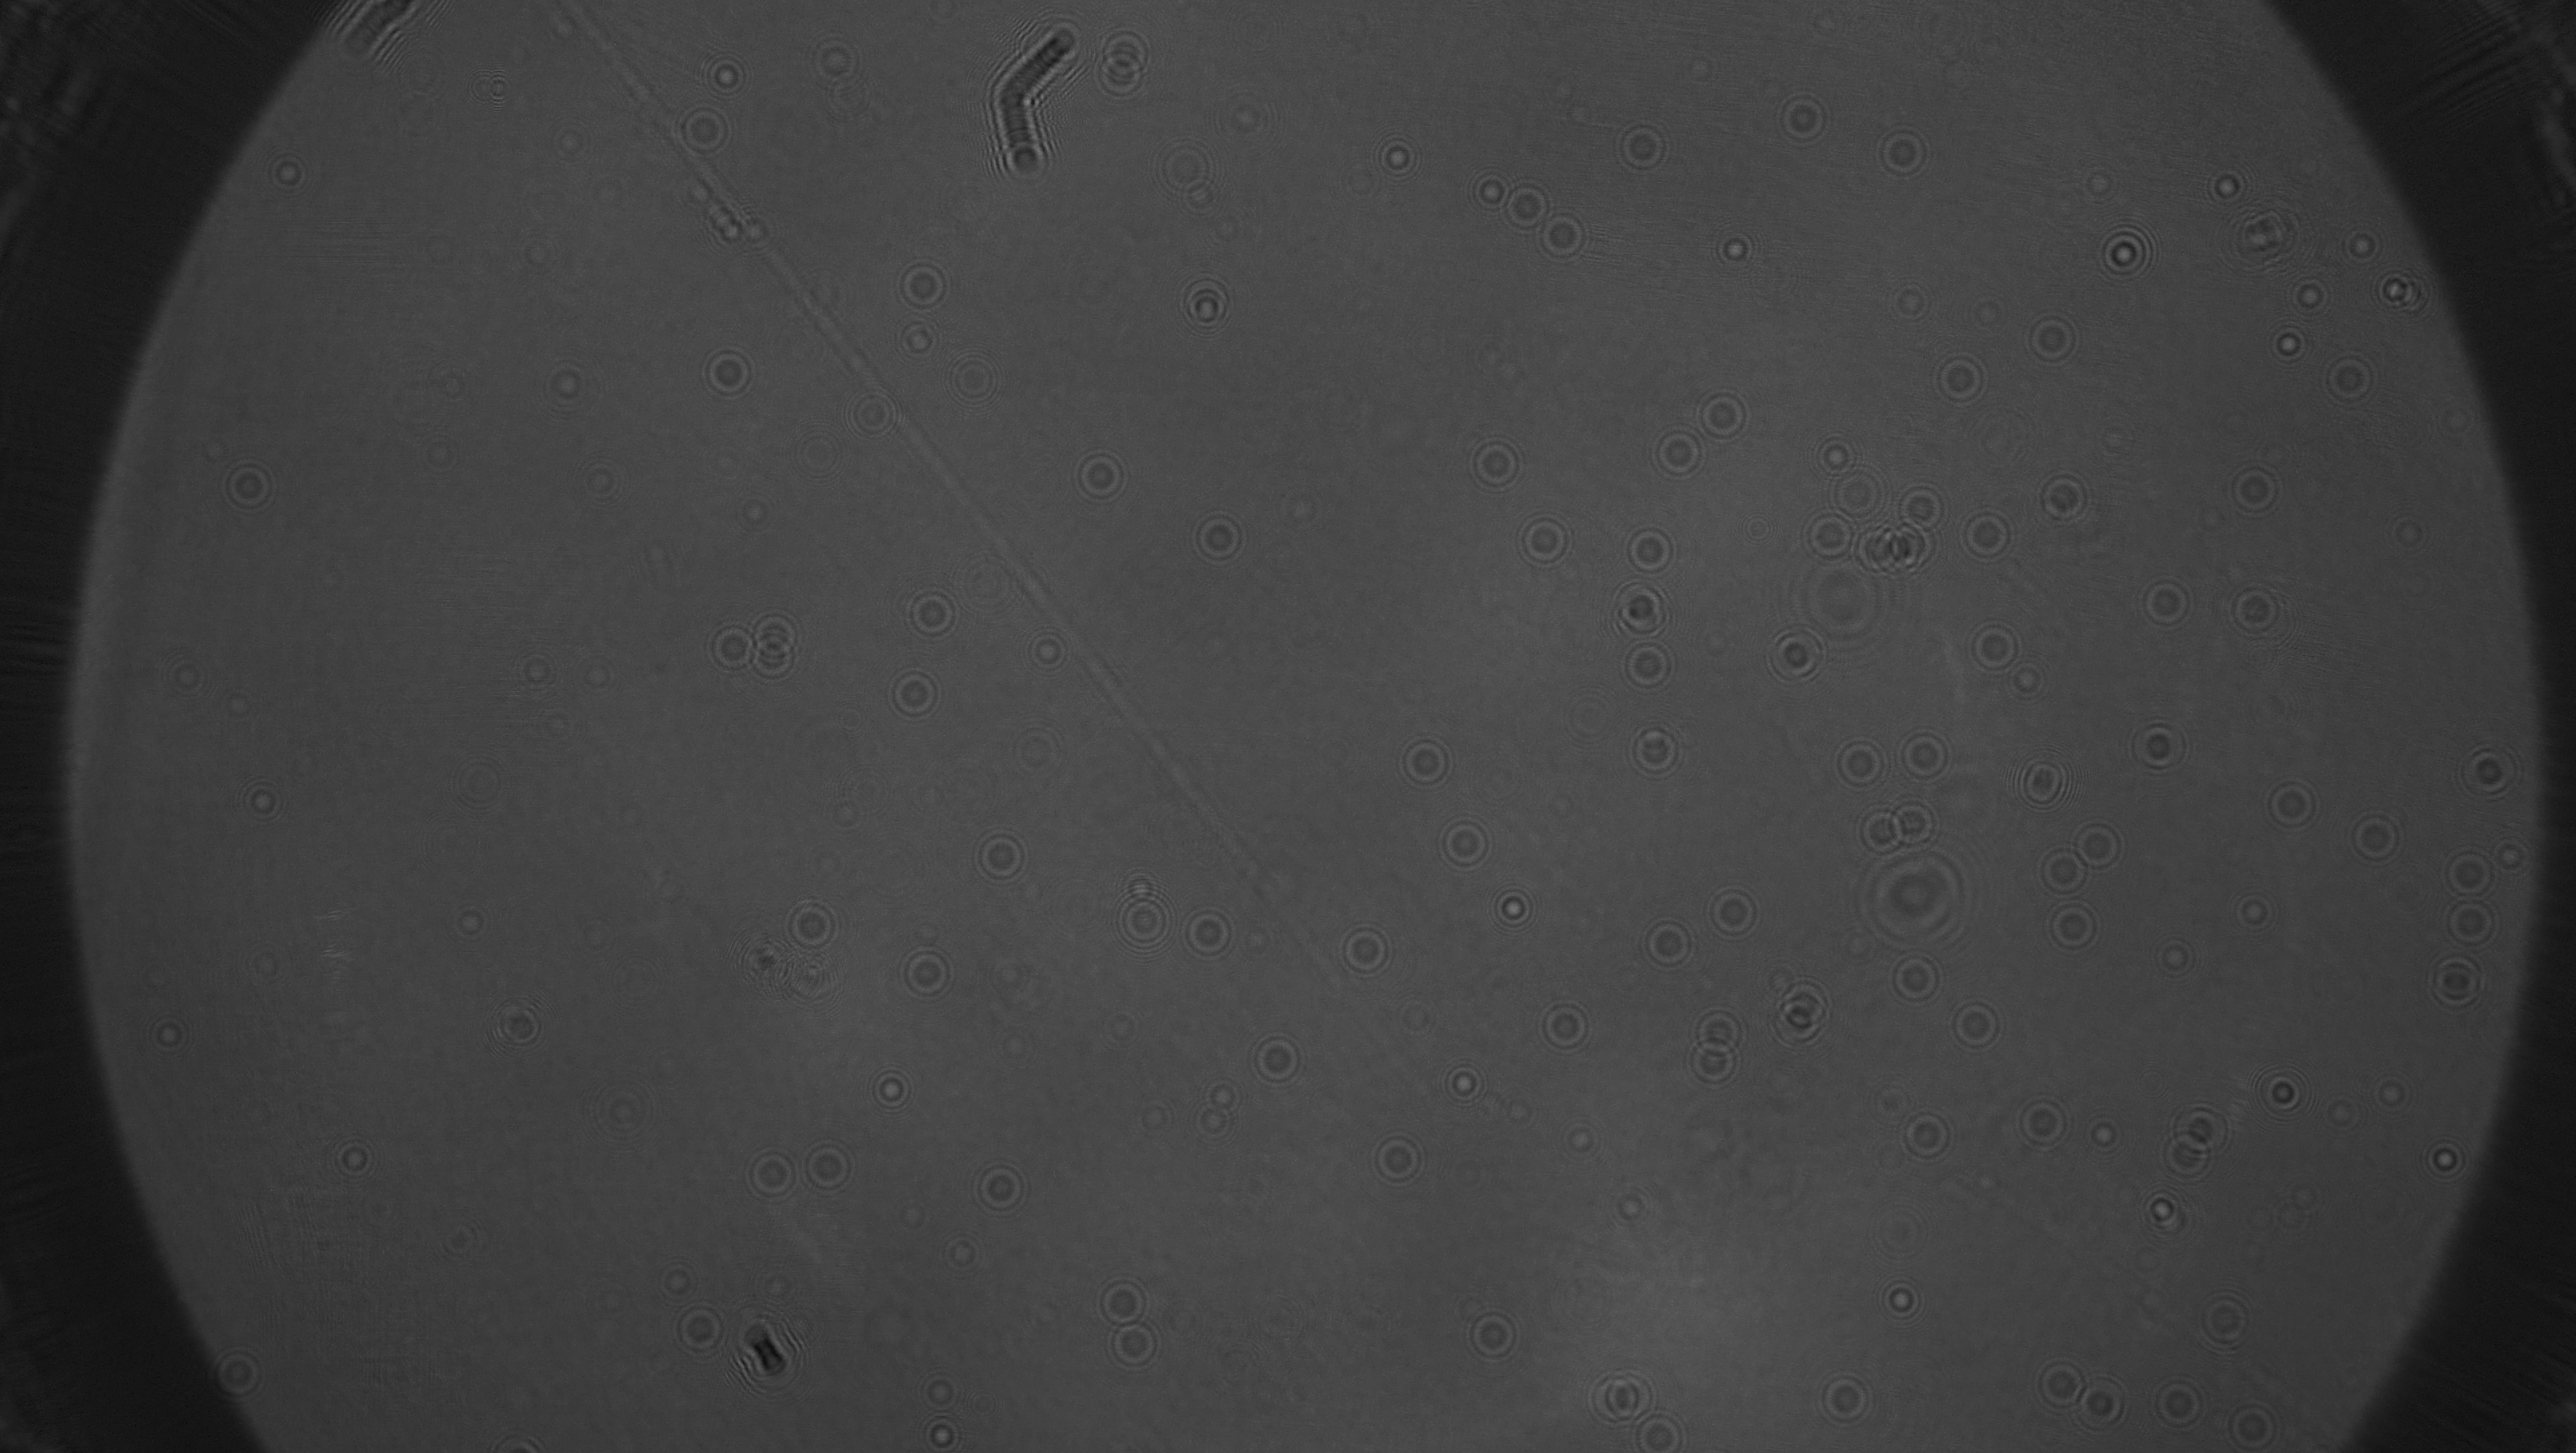bead: (1580, 1363, 1663, 1434), (2420, 945, 2493, 1019), (2017, 301, 2086, 372), (2220, 573, 2291, 642), (2010, 1087, 2079, 1156), (2151, 1120, 2220, 1189), (2316, 343, 2383, 414), (669, 94, 736, 163), (1796, 503, 1863, 572), (1461, 430, 1529, 499), (1330, 913, 1398, 982), (214, 451, 281, 520), (2028, 1350, 2095, 1419), (966, 1156, 1033, 1225), (202, 1342, 272, 1407), (1527, 202, 1594, 269), (2220, 455, 2288, 522), (2132, 566, 2199, 634), (1826, 729, 1893, 796), (2341, 803, 2408, 871), (2436, 839, 2503, 906), (2065, 812, 2132, 880), (1606, 113, 1675, 179), (2038, 897, 2107, 963), (1882, 943, 1948, 1012), (1622, 713, 1688, 782), (1246, 1023, 1311, 1092), (1458, 1301, 1527, 1366), (667, 1295, 732, 1365), (796, 1133, 860, 1203), (1493, 173, 1559, 241), (1890, 473, 1955, 540), (2258, 773, 2325, 839), (2438, 888, 2505, 954), (1684, 1000, 1752, 1065), (741, 600, 809, 665), (895, 940, 961, 1007), (1364, 1124, 1430, 1191), (1893, 1101, 1959, 1168), (2148, 1372, 2213, 1439), (1944, 989, 2008, 1058), (1637, 908, 1700, 977), (697, 338, 761, 407), (1187, 503, 1251, 572), (1895, 720, 1957, 791), (1953, 504, 2019, 570), (2031, 841, 2097, 906), (1851, 798, 1916, 864), (1392, 727, 1458, 793), (881, 660, 947, 726), (1927, 343, 1990, 411), (2033, 464, 2097, 531), (778, 892, 842, 959), (1647, 421, 1711, 487), (1881, 791, 1944, 857), (1433, 809, 1497, 874), (970, 823, 1033, 888), (1813, 1365, 1877, 1430), (1683, 1028, 1744, 1096), (701, 611, 763, 678), (740, 1143, 801, 1211), (1095, 18, 1159, 81), (890, 255, 954, 319), (1092, 1269, 1155, 1333), (1870, 122, 1936, 184), (1691, 386, 1757, 448), (1513, 506, 1575, 572), (1534, 995, 1596, 1060), (1178, 899, 1240, 965), (1070, 442, 1132, 508), (901, 580, 962, 646), (1882, 515, 1946, 577), (1615, 634, 1677, 697), (1962, 616, 2026, 678), (1775, 972, 1836, 1035), (1104, 1313, 1166, 1377), (1702, 878, 1762, 943), (2220, 1393, 2286, 1453), (1619, 519, 1681, 580), (741, 625, 803, 687), (1088, 46, 1152, 104), (1773, 90, 1833, 150), (1847, 520, 1905, 577), (1626, 1403, 1691, 1453), (478, 1425, 557, 1453)
